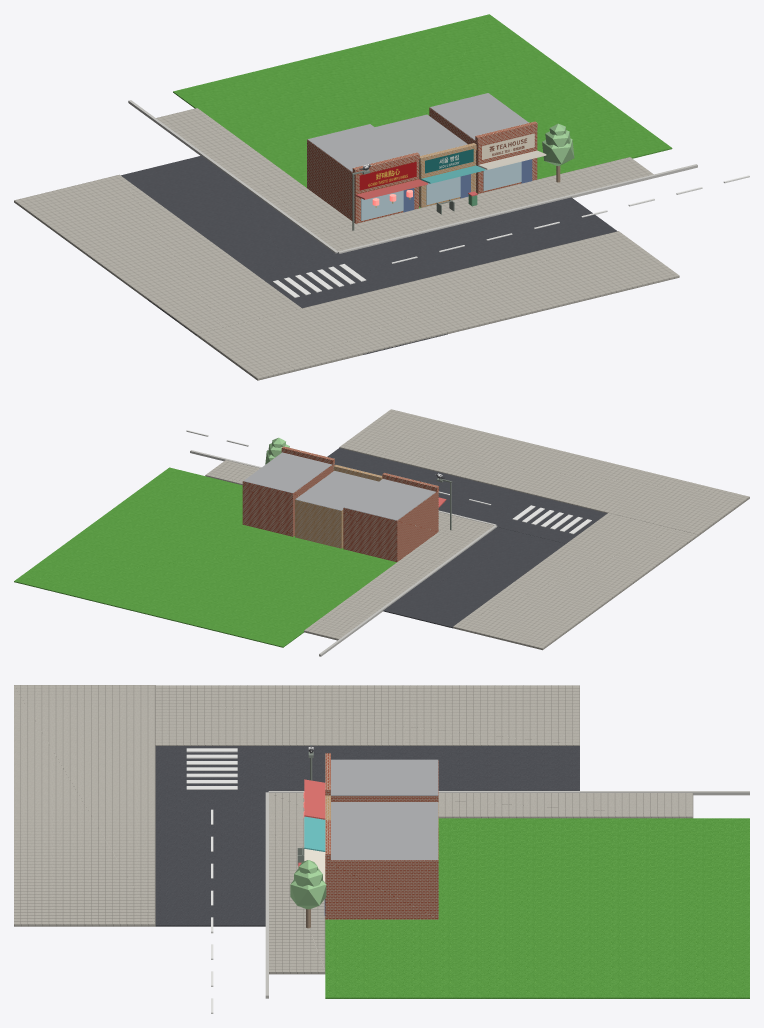
The model's file is magpie-eastwood.glb.
3 views of the same model, one above another, from view 1: azimuth 30°, elevation 25°; view 2: azimuth 150°, elevation 25°; view 3: azimuth 270°, elevation 25° (orthographic). The views are drawn at different scales.
Visible parts, largest first — view 1: lawn, farX, farY, roadX, roadY, foot2, foot, dumpling_wall, dumpling_roof, tea_roof, bakery_roof, tea_wall (+10 smaller); view 2: lawn, farX, farY, roadY, roadX, foot2, dumpling_wall, tea_wall, dumpling_roof, tea_roof, bakery_wall, bakery_roof (+3 smaller); view 3: lawn, farX, farY, roadX, roadY, tea_wall, foot2, foot, dumpling_roof, tea_roof, bakery_roof, kerbY (+6 smaller).
Boxes of the visible parts, x1,y1,x2,y2 form: lawn: [173, 14, 672, 208]; farX: [196, 231, 679, 380]; farY: [14, 174, 363, 379]; roadX: [148, 197, 617, 335]; roadY: [121, 155, 447, 354]; foot2: [156, 108, 355, 233]; foot: [356, 157, 653, 241]; dumpling_wall: [307, 139, 418, 223]; dumpling_roof: [307, 124, 410, 172]; tea_roof: [430, 93, 528, 140]; bakery_roof: [375, 114, 467, 155]; tea_wall: [429, 107, 537, 193]; lawn: [14, 467, 396, 647]; farX: [339, 409, 749, 534]; farY: [453, 499, 747, 650]; roadY: [383, 527, 565, 628]; roadX: [327, 448, 607, 543]; foot2: [304, 532, 473, 640]; dumpling_wall: [343, 491, 438, 562]; tea_wall: [242, 464, 334, 536]; dumpling_roof: [343, 479, 435, 520]; tea_roof: [243, 452, 332, 493]; bakery_wall: [295, 500, 343, 548]; bakery_roof: [295, 470, 378, 510]; lawn: [325, 818, 749, 998]; farX: [14, 685, 155, 926]; farY: [155, 685, 579, 745]; roadX: [155, 746, 268, 926]; roadY: [268, 746, 579, 790]; tea_wall: [325, 827, 438, 919]; foot2: [438, 793, 693, 818]; foot: [269, 816, 325, 974]; dumpling_roof: [331, 759, 438, 795]; tea_roof: [331, 826, 438, 860]; bakery_roof: [331, 802, 438, 826]; kerbY: [268, 791, 749, 795].
Size of the model in its own units: 54.7 by 5.86 by 52.
Materials: 26 (8 with a texture image).
